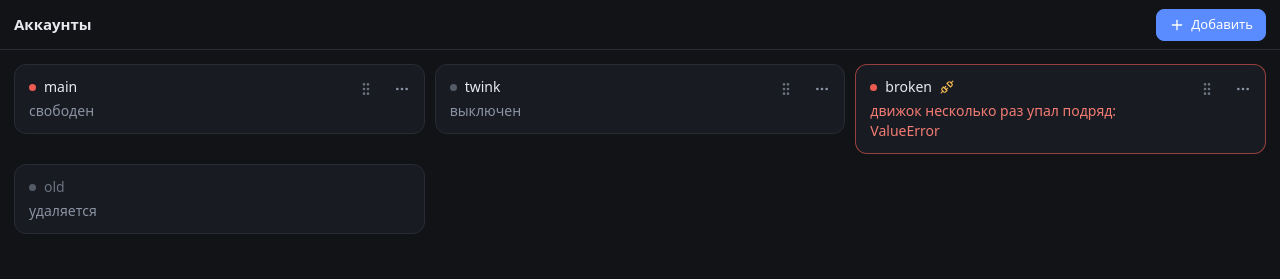
it: экран аккаунтов › меню «⋯»: включение по статусу, переименование, удаление, вход в Telegram
Click the button named "Действия" in the row of "свободен". click: (402, 89)
box: top-left (386, 73), bottom-right (418, 105)
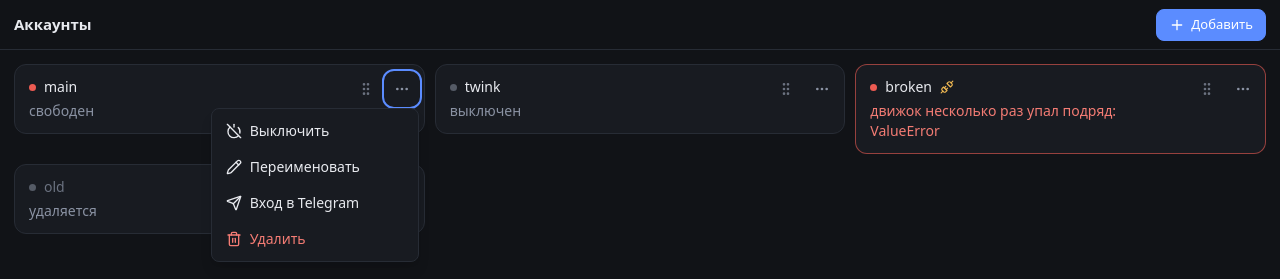
Now the button "Выключить" is shown, box top-left (216, 113), bottom-right (414, 149)
Now the button "Переименовать" is shown, box top-left (216, 149), bottom-right (414, 185)
Now the button "Удалить" is shown, box top-left (216, 221), bottom-right (414, 257)
Click the button named "Действия" in the row of "выключен". click: (822, 89)
box: top-left (806, 73), bottom-right (838, 105)
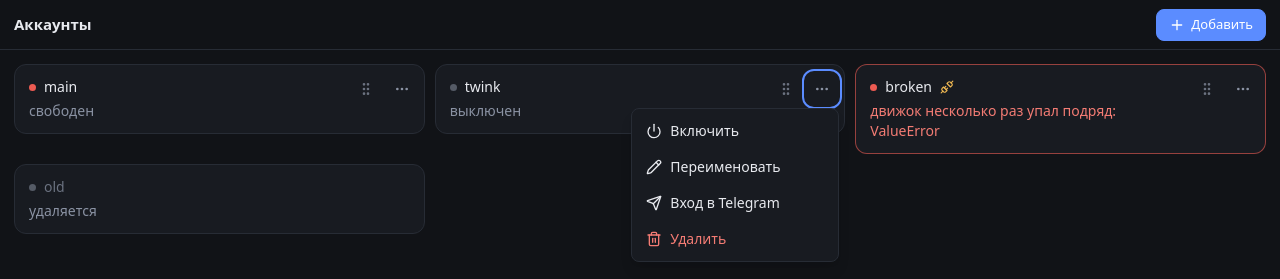
Now the button "Выключить" is gone
Now the button "Включить" is shown, box top-left (636, 113), bottom-right (834, 149)
Press Escape
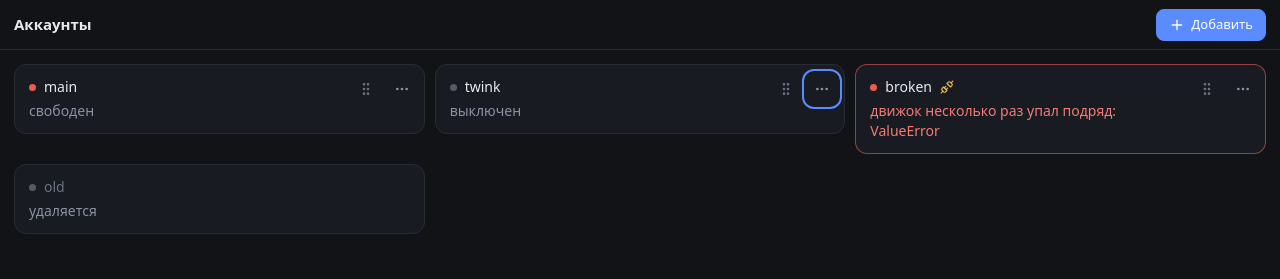
Now the button "Включить" is gone
Click the button named "Действия" in the row of "broken". click: (1243, 89)
box: top-left (1227, 73), bottom-right (1259, 105)
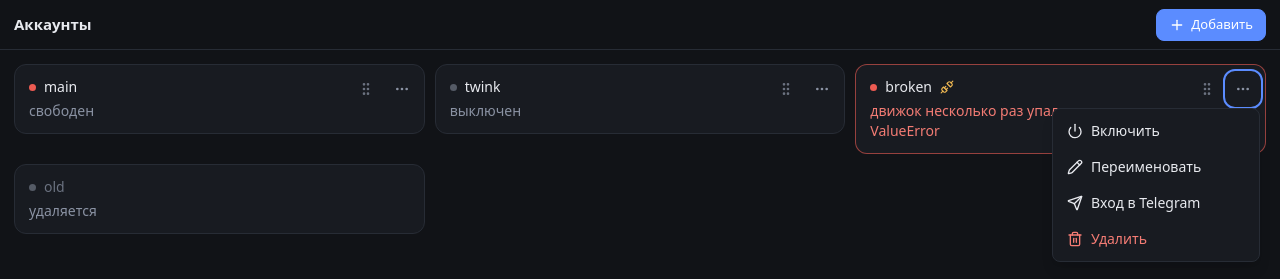
Now the button "Включить" is shown, box top-left (1057, 113), bottom-right (1255, 149)
Click the heading "Аккаунты". click: (53, 25)
box: top-left (14, 13), bottom-right (92, 36)
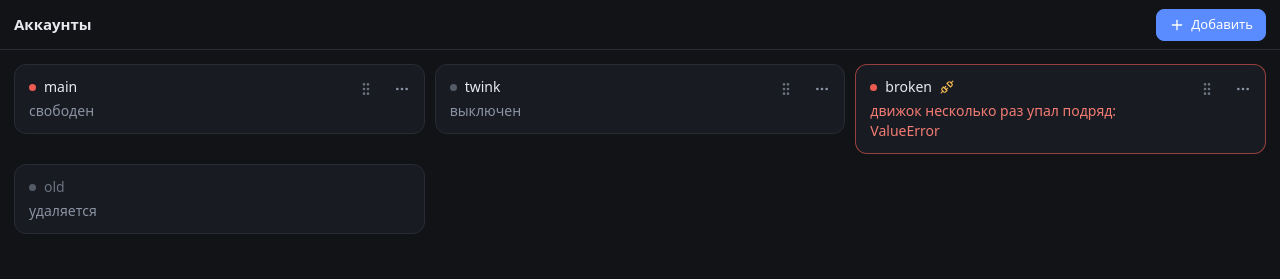
Now the button "Включить" is gone
